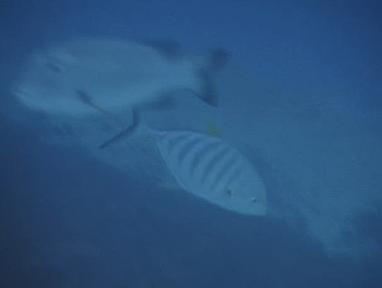Carangidae -Jacks-: (97, 104, 269, 224)
